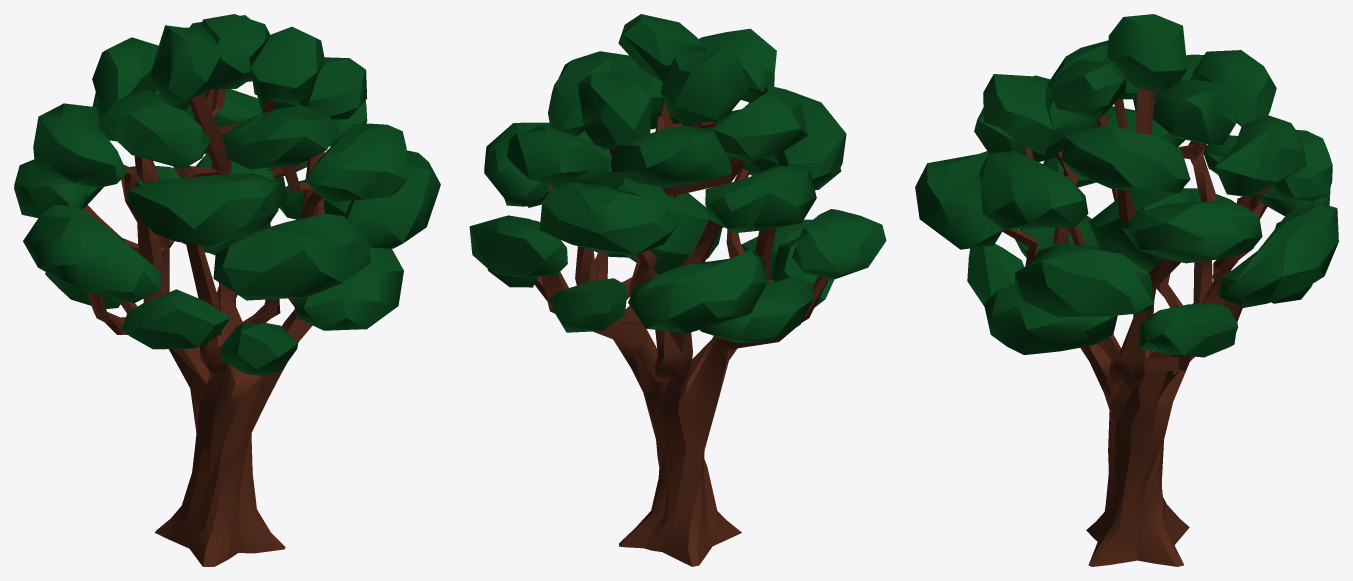
File: Tree_1_Low.fbx
3 views of the same model, side by side, from view 1: azimuth 30°, elevation 25°; view 2: azimuth 150°, elevation 25°; view 3: azimuth 270°, elevation 25° (orthographic). The views are drawn at different scales.
Visible parts, largest first — view 1: Tree_1_Low; view 2: Tree_1_Low; view 3: Tree_1_Low.
Part boxes in pixels (bbox=[...]): Tree_1_Low: bbox=[14, 14, 440, 566]; Tree_1_Low: bbox=[469, 14, 886, 566]; Tree_1_Low: bbox=[915, 14, 1338, 566].
Size of the model in its own units: 160 by 208 by 156.
